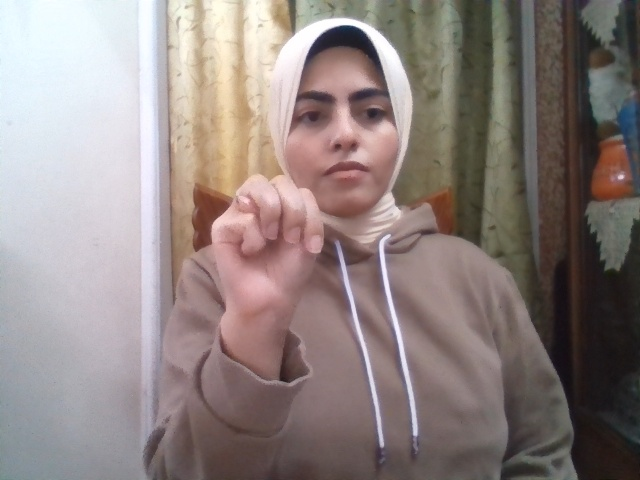M: (211, 174, 324, 322)
